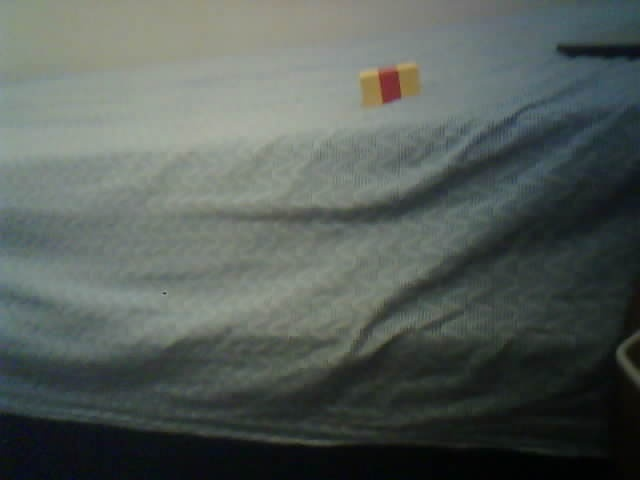lego: (358, 61, 423, 107)
